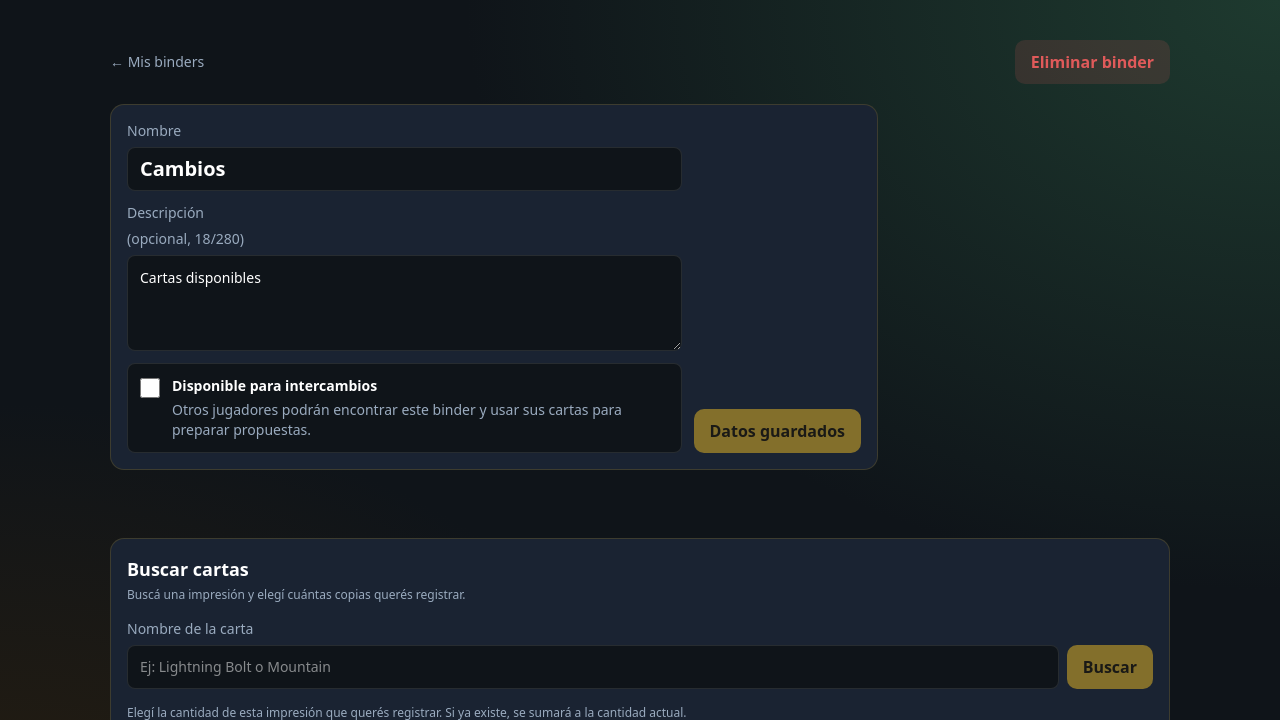
Scenario: restores the last confirmed trade availability when saving fails
This screenshot has width=1280, height=720.
Click the checkbox labelled "Disponible para intercambios". click: (150, 388)
box: [140, 378, 160, 398]
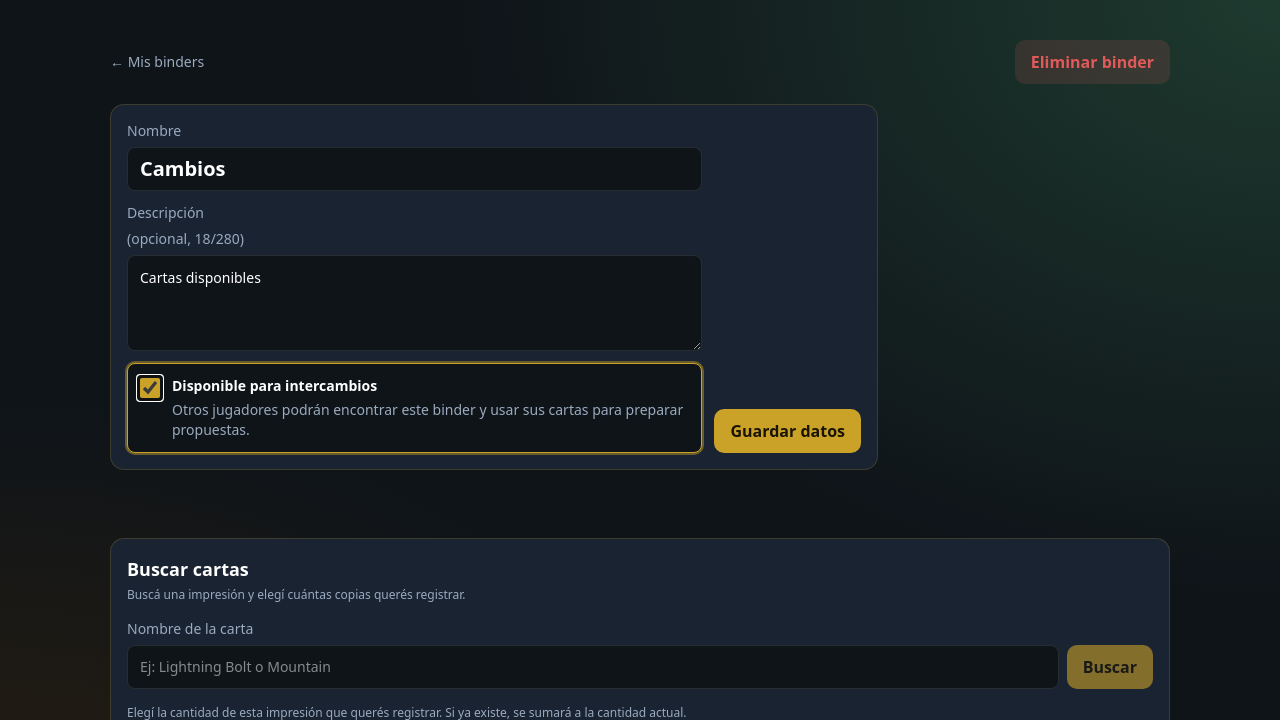
Click the button "Guardar datos". click: (788, 431)
box: [714, 409, 861, 453]
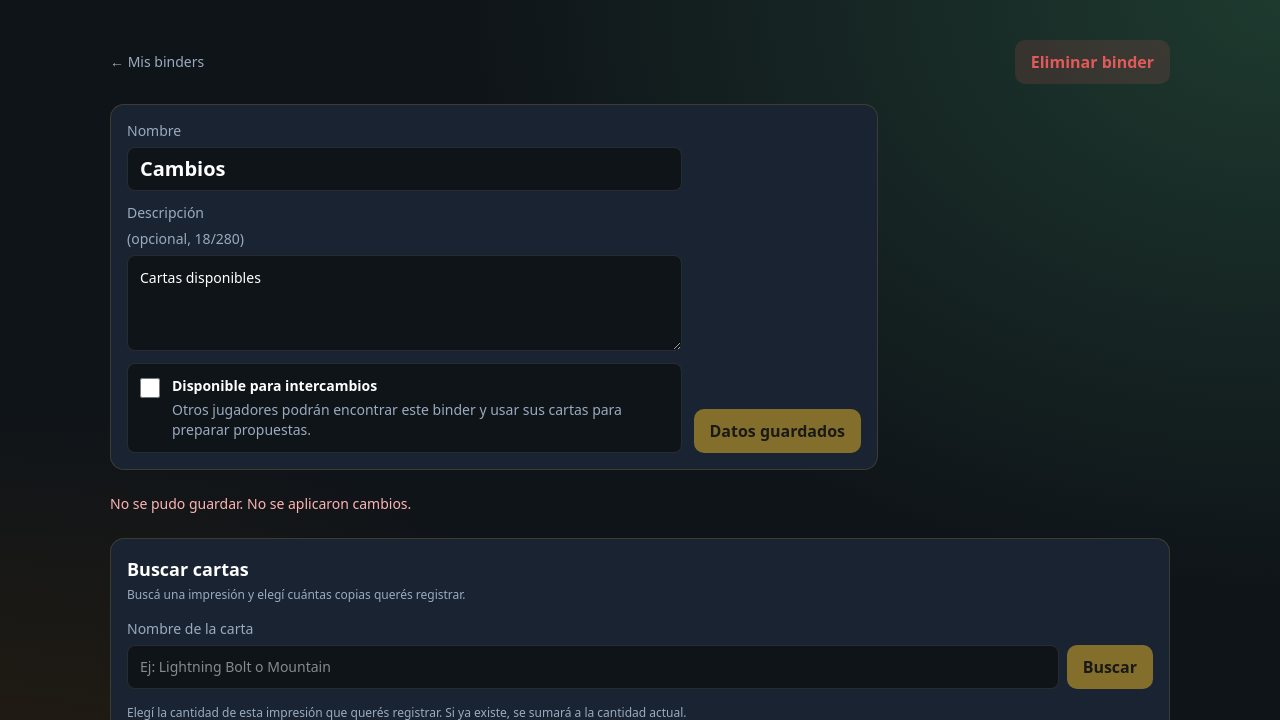
Expected: the checkbox labelled "Disponible para intercambios" is not checked, [140, 378, 160, 398]
Expected: the message shows "No se aplicaron cambios.", [110, 494, 411, 513]
